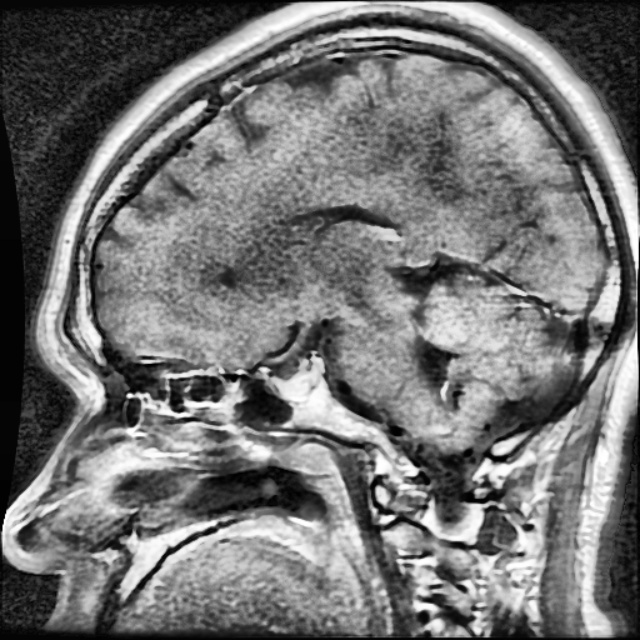Pituitary: (270, 360, 322, 403)
